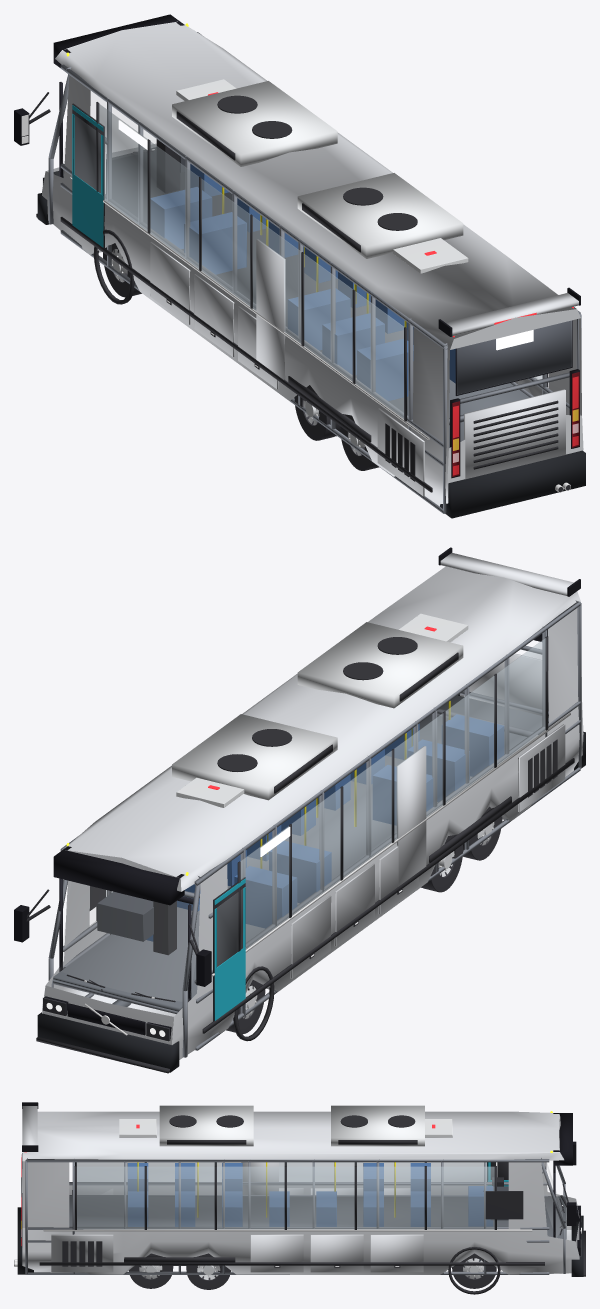
The model's file is complete_bus.glb.
The picture shows the model from 3 angles, top to bottom: view 1: azimuth 30°, elevation 25°; view 2: azimuth 150°, elevation 25°; view 3: azimuth 270°, elevation 25°; orthographic projection. The views are drawn at different scales.
Parts seen in each view (by area): view 1: BODY_Coach_Monocoque_Shell, GLASS_Side_Passenger_Ribbon_R, BODY_Roof_HVAC_Unit_Front_Cabin, BODY_Roof_HVAC_Unit_Rear_Cabin, CHASSIS_LowFloor_Passenger_Deck, BODY_Rear_Engine_Compartment_Door, GLASS_Rear_Backlight_Frit_Mask, BODY_Rear_Bumper_Fascia, GLASS_Rear_Backlight_Window, DOOR_Mid_Emergency_Exit_Leaf, INTERIOR_Passenger_Seat_Row_02_R, INTERIOR_Passenger_Seat_Row_07_R (+24 smaller); view 2: BODY_Coach_Monocoque_Shell, GLASS_Side_Passenger_Ribbon_R, CHASSIS_LowFloor_Passenger_Deck, GLASS_Panoramic_Windshield, BODY_Roof_HVAC_Unit_Rear_Cabin, BODY_Roof_HVAC_Unit_Front_Cabin, BODY_Front_Destination_Header_Fairing, DOOR_Mid_Emergency_Exit_Leaf, BODY_Front_Bumper_Fascia, BODY_Rear_Engine_Compartment_Door, INTERIOR_Passenger_Seat_Row_01_R, INTERIOR_Driver_Dashboard_Console (+25 smaller); view 3: BODY_Coach_Monocoque_Shell, GLASS_Side_Passenger_Ribbon_L, CHASSIS_LowFloor_Passenger_Deck, GLASS_Side_Passenger_Ribbon_R, BODY_Roof_HVAC_Unit_Rear_Cabin, BODY_Roof_HVAC_Unit_Front_Cabin, FRAMEWORK_Longitudinal_RoofCantrail_L, BODY_Side_RubStrip_L, BODY_Luggage_Door_L_01, BODY_Luggage_Door_L_02, BODY_Luggage_Door_L_03, BODY_Machinery_Access_Door_L (+43 smaller).
Part boxes in pixels (<box>): BODY_Coach_Monocoque_Shell: <box>42,21,583,506</box>; GLASS_Side_Passenger_Ribbon_R: <box>98,104,403,418</box>; BODY_Roof_HVAC_Unit_Front_Cabin: <box>172,81,337,166</box>; BODY_Roof_HVAC_Unit_Rear_Cabin: <box>297,173,463,258</box>; CHASSIS_LowFloor_Passenger_Deck: <box>53,147,529,447</box>; BODY_Rear_Engine_Compartment_Door: <box>464,389,565,479</box>; GLASS_Rear_Backlight_Frit_Mask: <box>455,320,572,395</box>; BODY_Rear_Bumper_Fascia: <box>440,450,585,518</box>; GLASS_Rear_Backlight_Window: <box>457,320,571,394</box>; DOOR_Mid_Emergency_Exit_Leaf: <box>256,239,285,379</box>; INTERIOR_Passenger_Seat_Row_02_R: <box>184,212,246,274</box>; INTERIOR_Passenger_Seat_Row_07_R: <box>357,338,413,400</box>; BODY_Coach_Monocoque_Shell: <box>42,566,583,1059</box>; GLASS_Side_Passenger_Ribbon_R: <box>240,638,545,949</box>; CHASSIS_LowFloor_Passenger_Deck: <box>53,695,548,1011</box>; GLASS_Panoramic_Windshield: <box>59,882,199,1001</box>; BODY_Roof_HVAC_Unit_Rear_Cabin: <box>297,622,463,708</box>; BODY_Roof_HVAC_Unit_Front_Cabin: <box>172,714,337,800</box>; BODY_Front_Destination_Header_Fairing: <box>53,846,184,905</box>; DOOR_Mid_Emergency_Exit_Leaf: <box>396,746,426,886</box>; BODY_Front_Bumper_Fascia: <box>37,1012,179,1072</box>; BODY_Rear_Engine_Compartment_Door: <box>464,653,548,717</box>; INTERIOR_Passenger_Seat_Row_01_R: <box>234,866,297,928</box>; INTERIOR_Driver_Dashboard_Console: <box>97,891,153,941</box>; BODY_Coach_Monocoque_Shell: <box>22,1111,579,1274</box>; GLASS_Side_Passenger_Ribbon_L: <box>77,1166,494,1229</box>; CHASSIS_LowFloor_Passenger_Deck: <box>69,1196,566,1239</box>; GLASS_Side_Passenger_Ribbon_R: <box>76,1162,486,1181</box>; BODY_Roof_HVAC_Unit_Rear_Cabin: <box>159,1105,253,1146</box>; BODY_Roof_HVAC_Unit_Front_Cabin: <box>331,1105,424,1146</box>; FRAMEWORK_Longitudinal_RoofCantrail_L: <box>26,1159,549,1162</box>; BODY_Side_RubStrip_L: <box>39,1262,544,1265</box>; BODY_Luggage_Door_L_01: <box>370,1234,423,1272</box>; BODY_Luggage_Door_L_02: <box>310,1234,363,1272</box>; BODY_Luggage_Door_L_03: <box>250,1234,303,1272</box>; BODY_Machinery_Access_Door_L: <box>51,1234,113,1272</box>.
Bounding box in the file's own units: 3.51 × 3.86 × 13.35.
